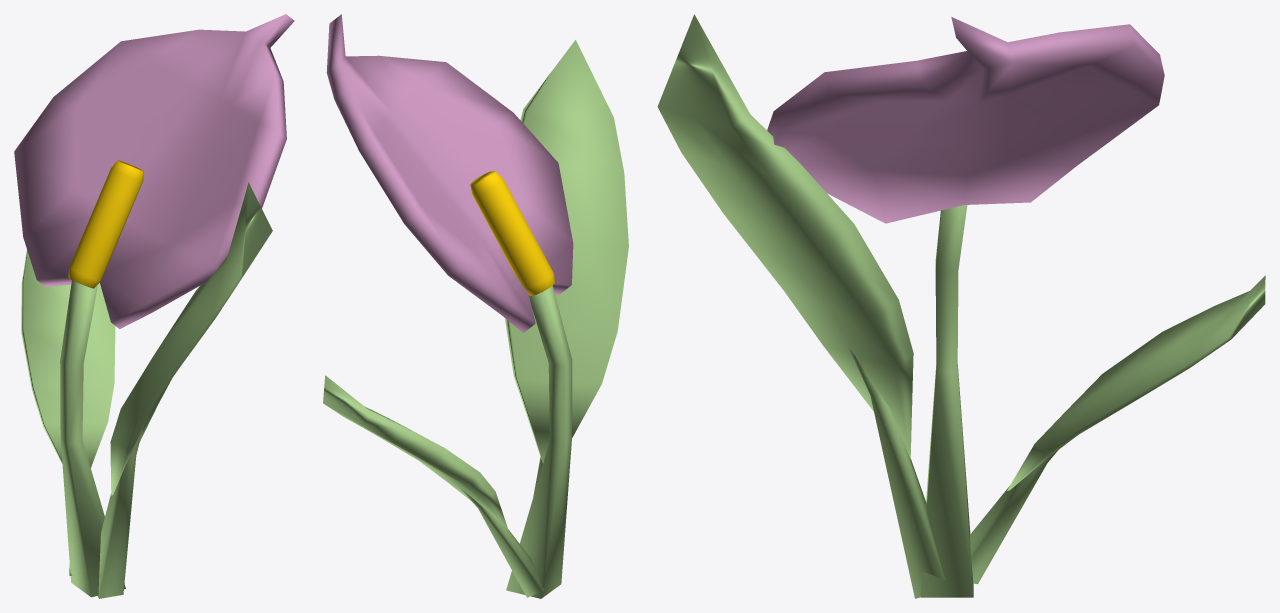
The model's file is Flower4AR.glb.
3 renders of one model, left to right at view 1: azimuth 30°, elevation 25°; view 2: azimuth 150°, elevation 25°; view 3: azimuth 270°, elevation 25°, orthographic. The views are drawn at different scales.
Visible parts, largest first — view 1: 圆环, 立方体.003, 立方体.001, 立方体, 柱体, 立方体.002; view 2: 圆环, 立方体.001, 立方体, 立方体.003, 柱体, 立方体.004; view 3: 圆环, 立方体.001, 立方体, 立方体.003, 立方体.002, 立方体.004.
Part boxes in pixels (x1,y1,x2,y2): 圆环: [14, 14, 294, 328]; 立方体.003: [21, 250, 115, 467]; 立方体.001: [110, 182, 272, 495]; 立方体: [60, 280, 125, 597]; 柱体: [68, 160, 143, 288]; 立方体.002: [97, 426, 143, 598]; 圆环: [326, 14, 573, 332]; 立方体.001: [505, 40, 628, 463]; 立方体: [506, 285, 572, 598]; 立方体.003: [323, 375, 508, 530]; 柱体: [470, 171, 555, 295]; 立方体.004: [460, 488, 544, 597]; 圆环: [767, 17, 1164, 223]; 立方体.001: [657, 14, 913, 459]; 立方体: [920, 205, 973, 597]; 立方体.003: [1007, 275, 1265, 490]; 立方体.002: [848, 347, 944, 598]; 立方体.004: [970, 450, 1057, 584].
Size of the model in its own units: 1.8 by 3.89 by 3.08.
